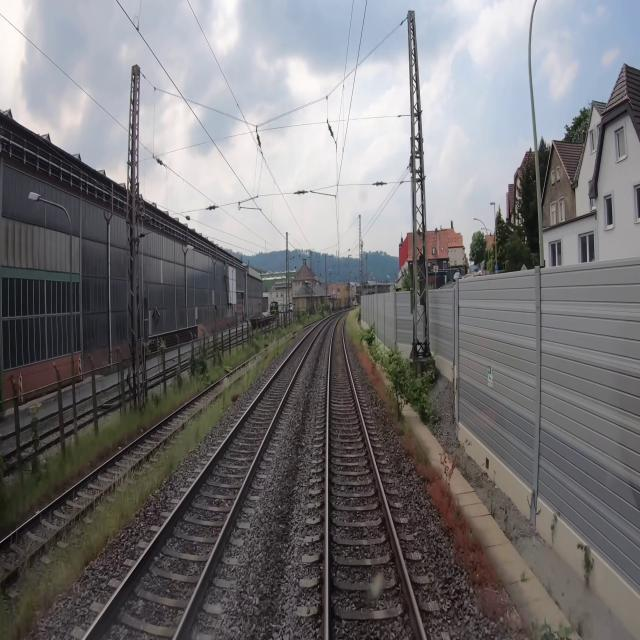Plant: (0, 340, 291, 639), (0, 308, 329, 533), (336, 310, 355, 351), (346, 313, 357, 339)
